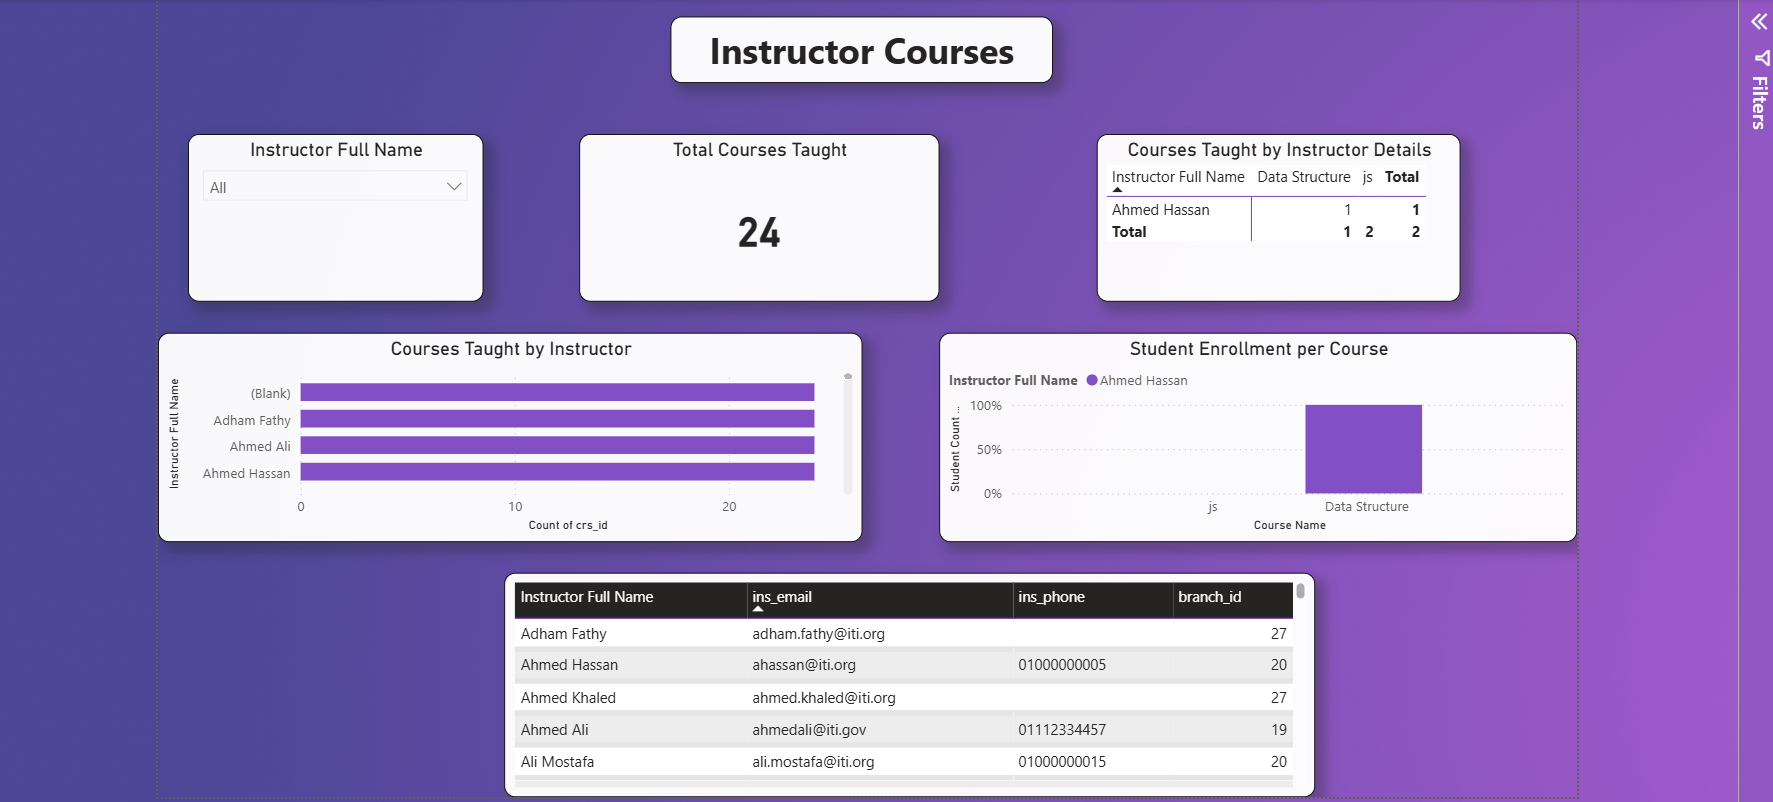

This screenshot's page, from the dashboard's own definition file:
{"tool":"powerbi","page":{"name":"Instructor Courses","canvas":[1280,720],"ordinal":2},"visuals":[{"type":"textbox","box":[462,15.5,345.2,60.1],"z":0},{"type":"card","title":"Total Courses Taught","fields":{"Values":["Count(Course.crs_id)"]},"box":[379.5,121.9,324.6,151.1],"z":1000},{"type":"clusteredBarChart","title":"Courses Taught by Instructor","fields":{"Category":["Instructor.Instructor Full Name"],"Y":["Count(Course.crs_id)"]},"box":[0,300.5,635.4,188.9],"z":2000},{"type":"hundredPercentStackedColumnChart","title":"Student Enrollment per Course","fields":{"Y":["Student_Exam.Student Count Fixed"],"Category":["Student_Exam.Course Name"],"Series":["Instructor.Instructor Full Name"]},"box":[704.1,300.5,575.3,188.9],"z":3000},{"type":"pivotTable","title":"Courses Taught by Instructor Details","fields":{"Columns":["Course.crs_name"],"Rows":["Instructor.Instructor Full Name"],"Values":["Student_Exam.Student Count Fixed"]},"box":[846.7,121.9,328,151.1],"z":4000},{"type":"tableEx","fields":{"Values":["Instructor.Instructor Full Name","Instructor.ins_email","Instructor_Phones.ins_phone","Instructor.branch_id"]},"box":[312.6,516.9,731.6,202.6],"z":5000},{"type":"slicer","title":"Instructor Full Name","fields":{"Values":["Instructor.Instructor Full Name"]},"box":[27.5,121.9,266.2,151.1],"z":6000}]}

Visuals, with their boxes in screenshot pixels (x1, y1, x2, y2):
textbox: (665, 17, 1045, 83)
"Total Courses Taught" card: (575, 134, 932, 300)
"Courses Taught by Instructor" clusteredBarChart: (157, 331, 856, 539)
"Student Enrollment per Course" hundredPercentStackedColumnChart: (932, 331, 1565, 539)
"Courses Taught by Instructor Details" pivotTable: (1089, 134, 1450, 300)
tableEx - Instructor.Instructor Full Name x Instructor.ins_email: (501, 569, 1306, 792)
"Instructor Full Name" slicer: (187, 134, 480, 300)
